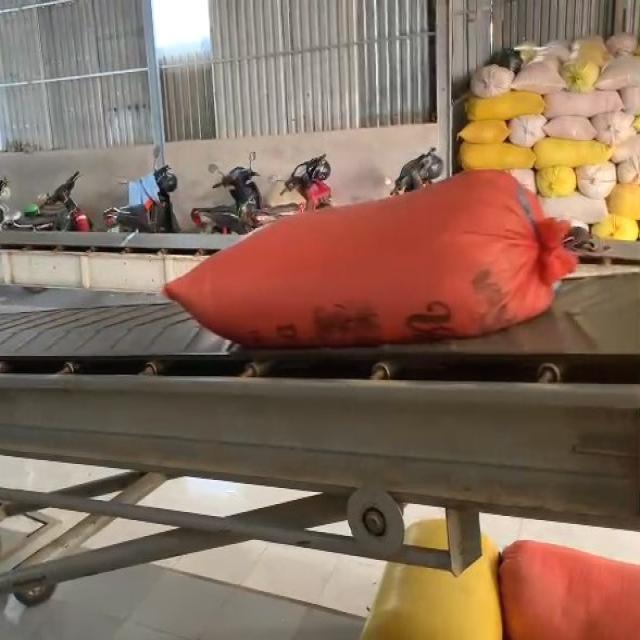gunny_bag: (165, 171, 577, 347)
